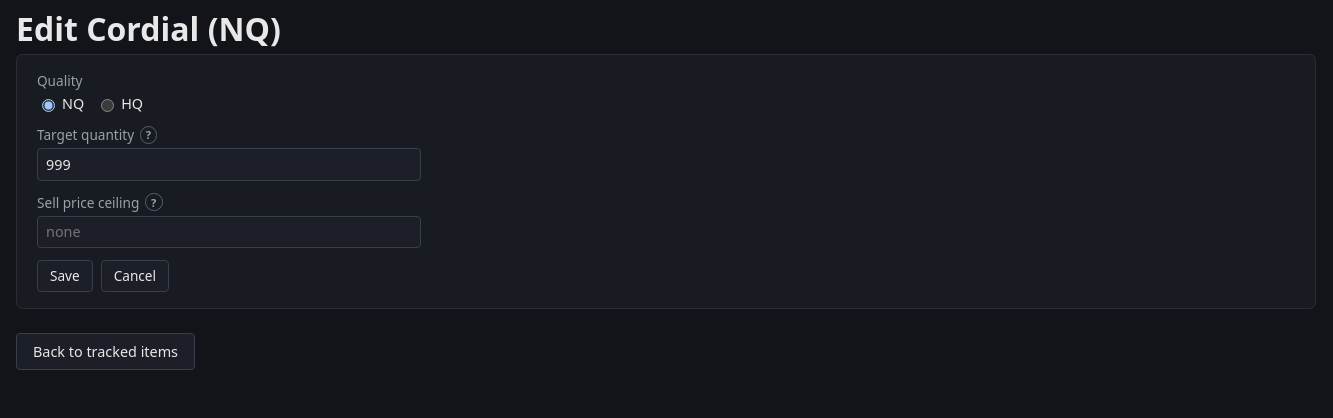
Test: EditTrackedItemContainer › should stay put explaining settings the tracked items wouldn't take, saving nothing
Click the radio button labelled "HQ".
click(108, 105)  # box [101,99,114,112]
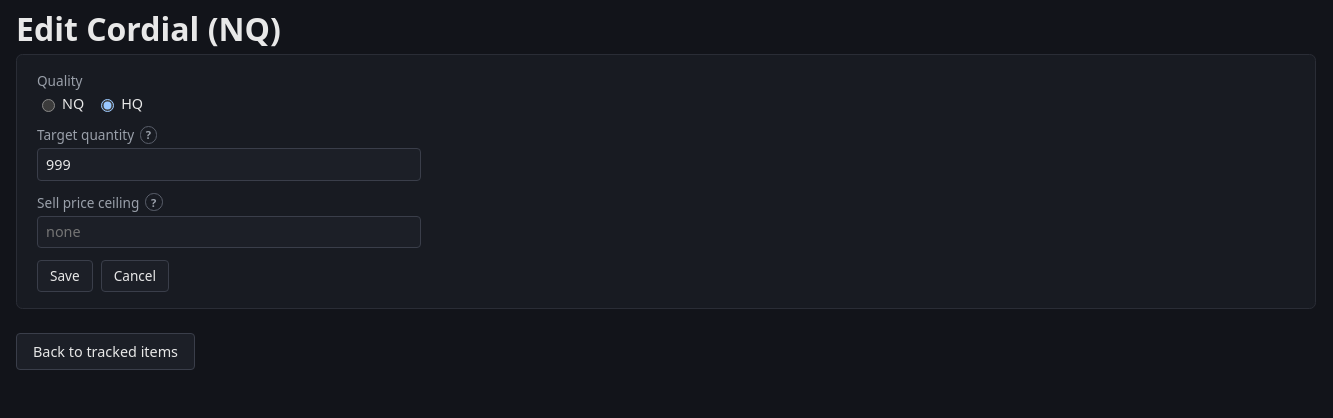
Click the button "Save".
click(65, 276)  # box [37,260,93,292]
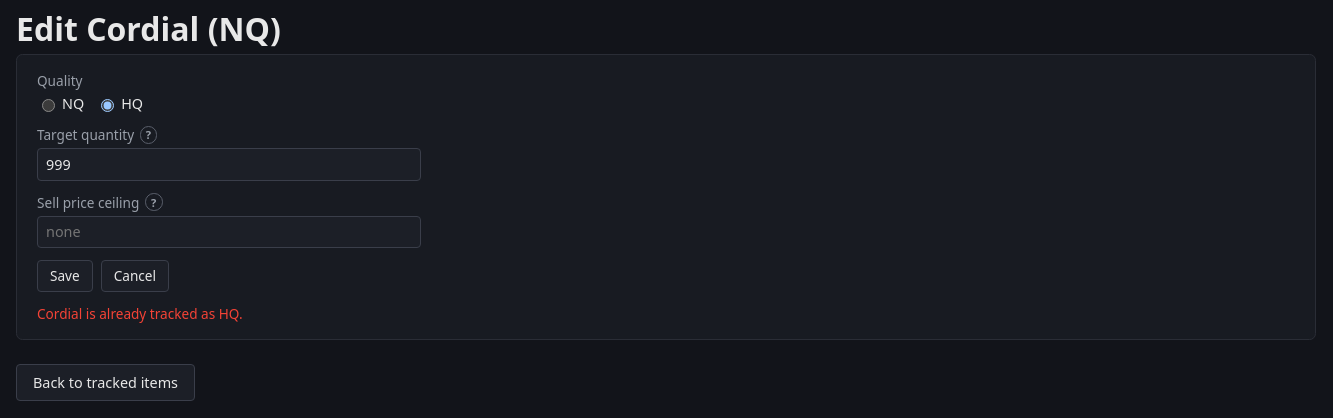
Result: the message reads "Cordial is already tracked as HQ." at [37,304,242,323]
